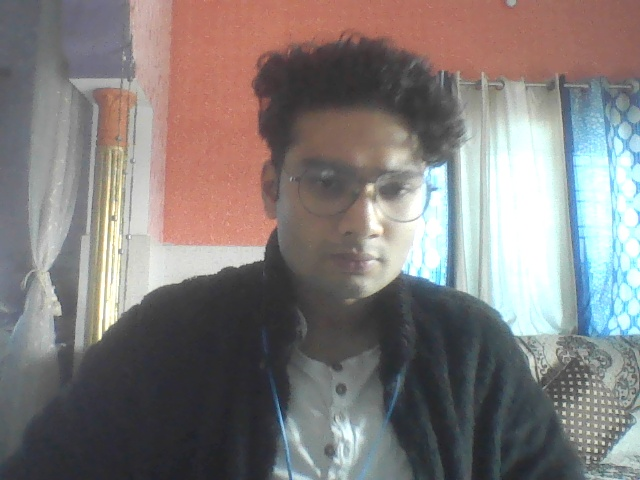real: (248, 47, 441, 320)
